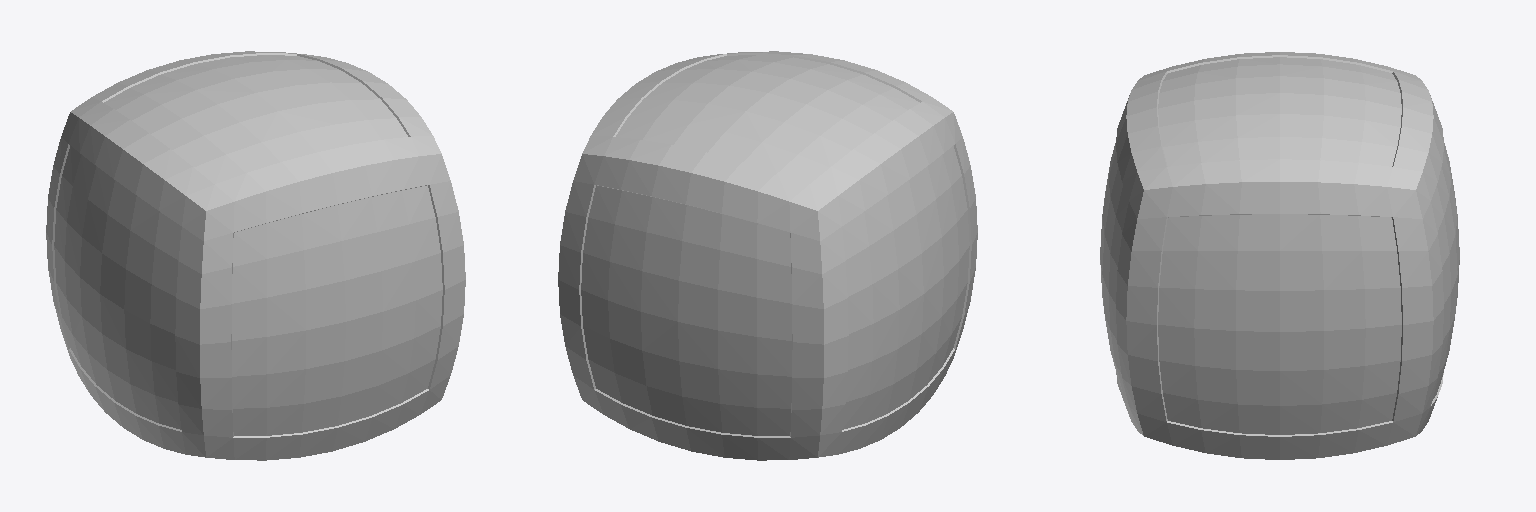
The model's file is standard.obj.
The picture shows the model from 3 angles: view 1: azimuth 30°, elevation 25°; view 2: azimuth 150°, elevation 25°; view 3: azimuth 270°, elevation 25°; orthographic projection.
Parts seen in each view (by area): view 1: Inner, Outter; view 2: Inner, Outter; view 3: Inner, Outter.
Part boxes in pixels (x1,y1,x2,y2): Inner: (54,55,442,435); Outter: (46,51,465,460); Inner: (581,55,969,435); Outter: (558,51,977,460); Inner: (1100,57,1459,434); Outter: (1116,52,1443,459).
Size of the model in its own units: 3.05 by 3.05 by 3.05.